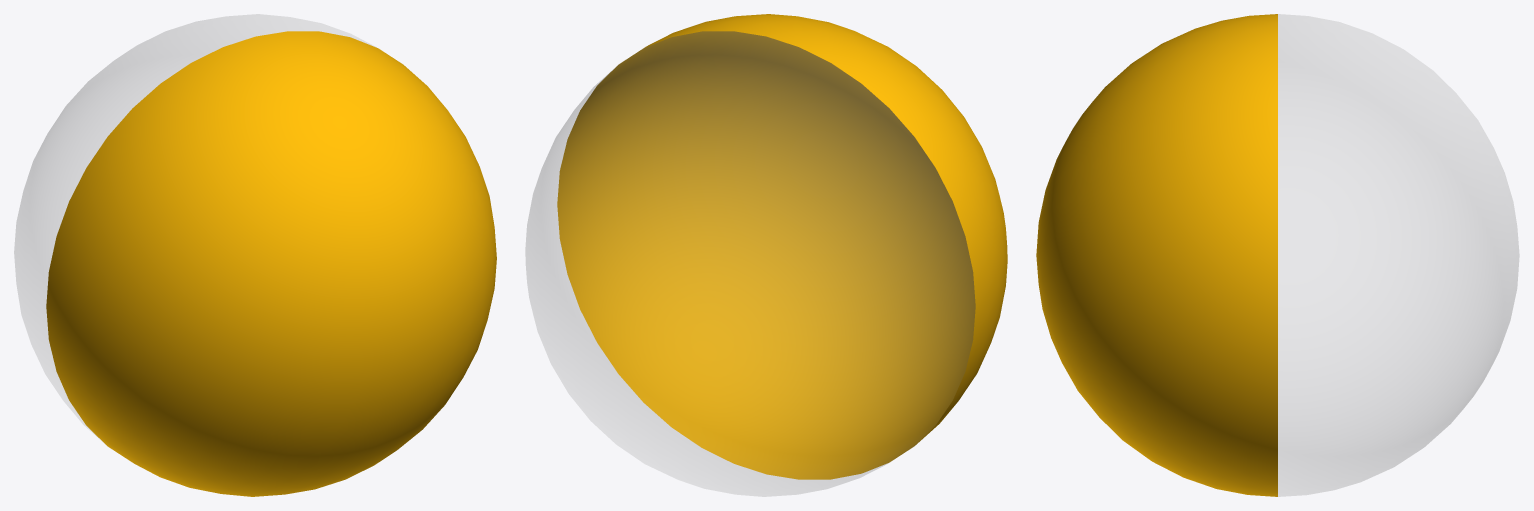
File: ball-orange.glb
The picture shows the model from 3 angles, left to right: view 1: azimuth 30°, elevation 25°; view 2: azimuth 150°, elevation 25°; view 3: azimuth 270°, elevation 25°; orthographic projection.
Visible parts, largest first — view 1: ball.001; view 2: ball.001; view 3: ball.001.
Part boxes in pixels (box(x1,y1,x2,y2)): ball.001: box(14, 14, 496, 496); ball.001: box(525, 14, 1007, 496); ball.001: box(1036, 14, 1519, 496).
Bounding box in the file's own units: 0.3 × 0.3 × 0.3.
